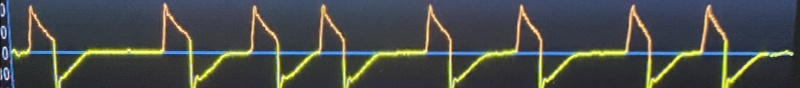normal_flow: (18, 0, 782, 88)
